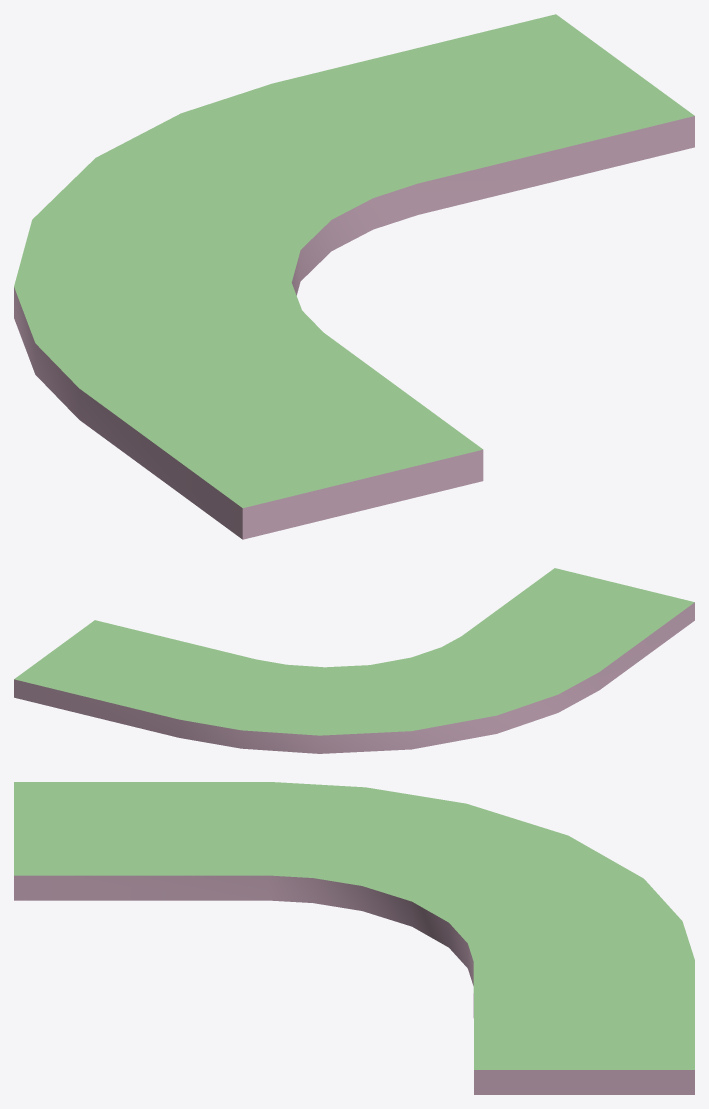
Rendered from Floor 10MR.fbx.
The picture shows the model from 3 angles, top to bottom: view 1: azimuth 30°, elevation 25°; view 2: azimuth 150°, elevation 25°; view 3: azimuth 270°, elevation 25°; orthographic projection. The views are drawn at different scales.
Visible parts, largest first — view 1: Floor_10MR; view 2: Floor_10MR; view 3: Floor_10MR.
Part boxes in pixels (box(x1,y1,x2,y2)): Floor_10MR: box(14, 14, 694, 539); Floor_10MR: box(14, 568, 694, 753); Floor_10MR: box(14, 782, 694, 1094).
Bounding box in the file's own units: 2464 × 100 × 2464.
